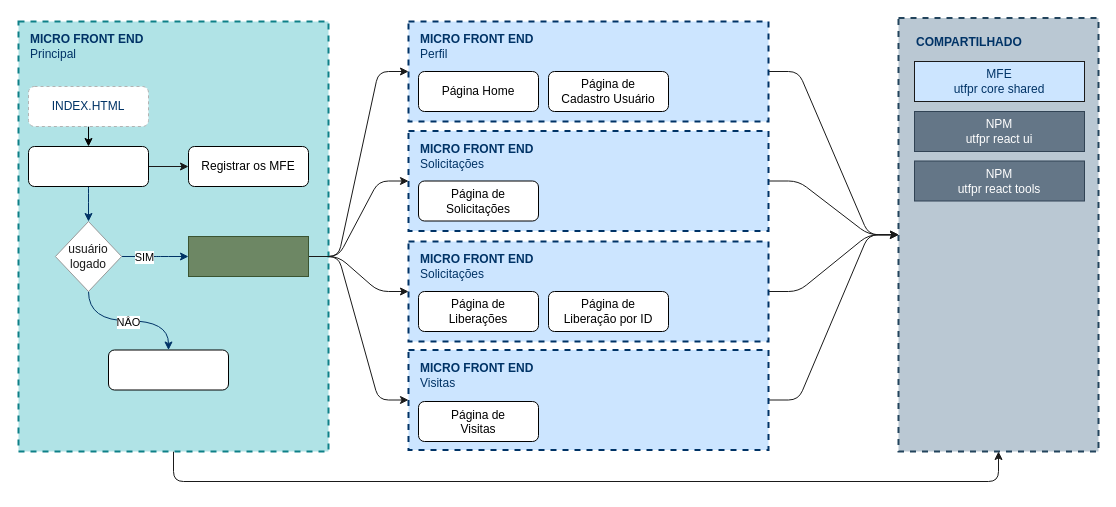
Image size: 1116x507. Some labels were removed from this diagram. Each missing label, with the centre of its shape:
"main.js" goes at point (88, 166).
"MFE" goes at point (248, 256).
"Página de Login" goes at point (168, 369).
